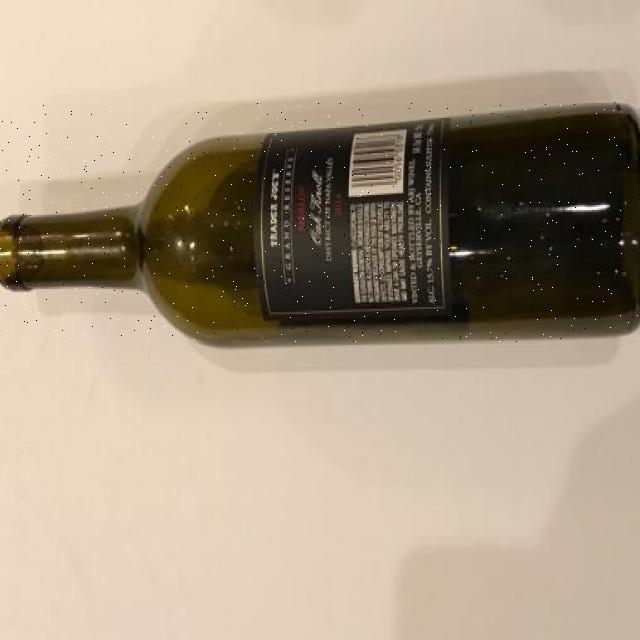glass: (0, 104, 640, 342)
